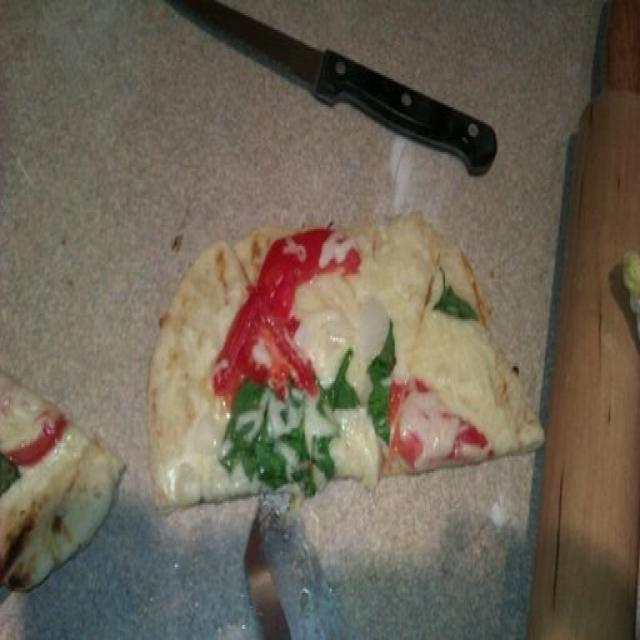Basil: (227, 392, 310, 492), (375, 327, 393, 442), (333, 353, 355, 417), (439, 288, 475, 312), (0, 457, 18, 494)
Pizza: (144, 214, 544, 514), (0, 372, 128, 602)
Tomato: (220, 241, 356, 395)
